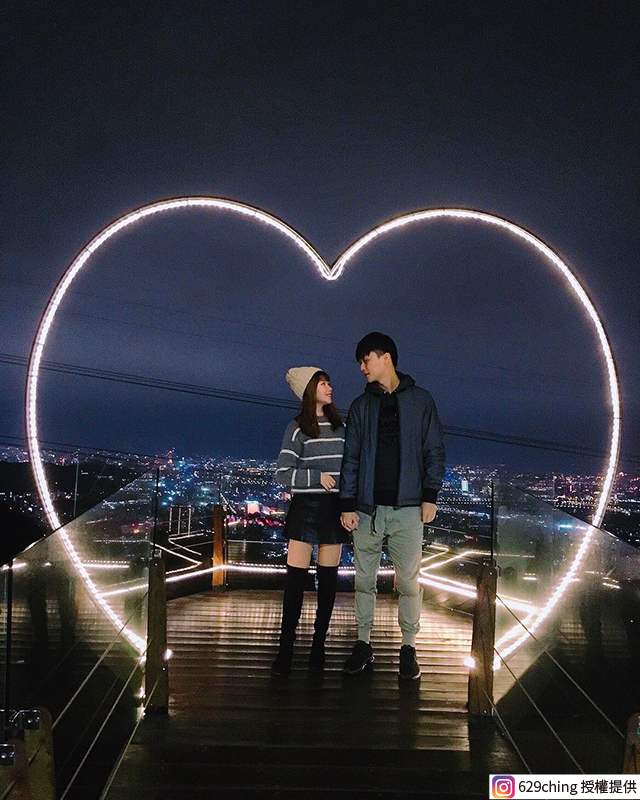people: (346, 336, 445, 683), (278, 364, 342, 673)
